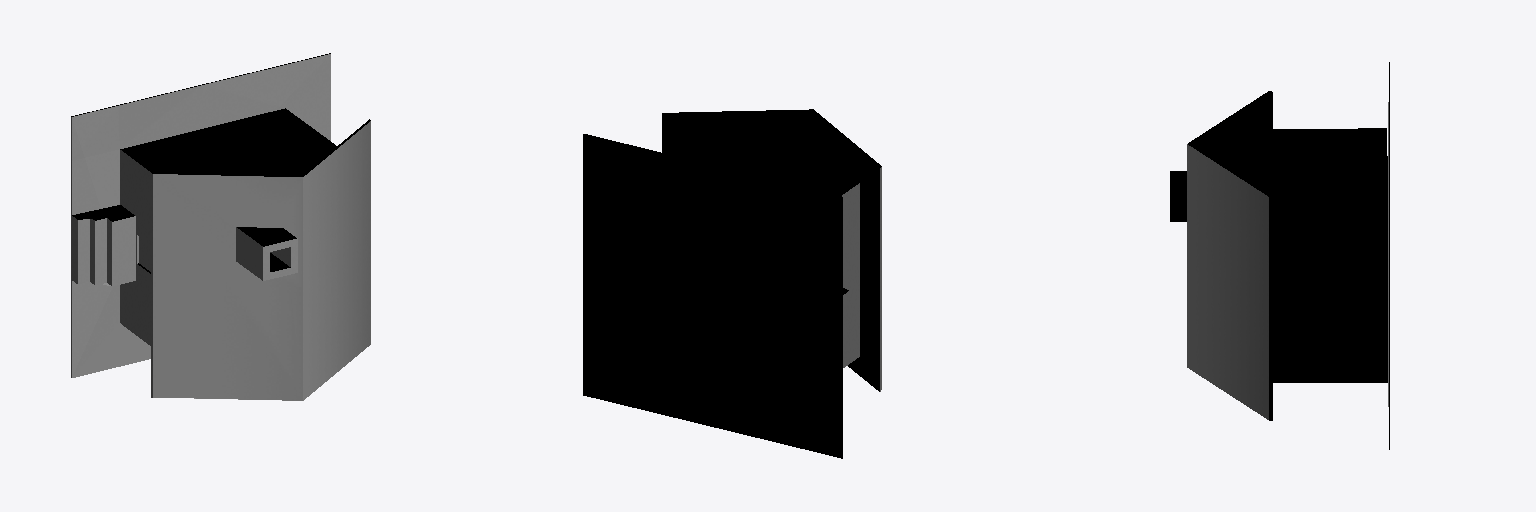
3 views of the same model, side by side, from view 1: azimuth 30°, elevation 25°; view 2: azimuth 150°, elevation 25°; view 3: azimuth 270°, elevation 25° (orthographic).
Parts seen in each view (by area): view 1: Box001; view 2: Box001; view 3: Box001.
Part boxes in pixels (x1,y1,x2,y2): Box001: (71, 53, 370, 400); Box001: (583, 109, 881, 458); Box001: (1170, 62, 1389, 449).
Bounding box in the file's own units: 109 × 105 × 80.59.
1 materials, 1 textured.